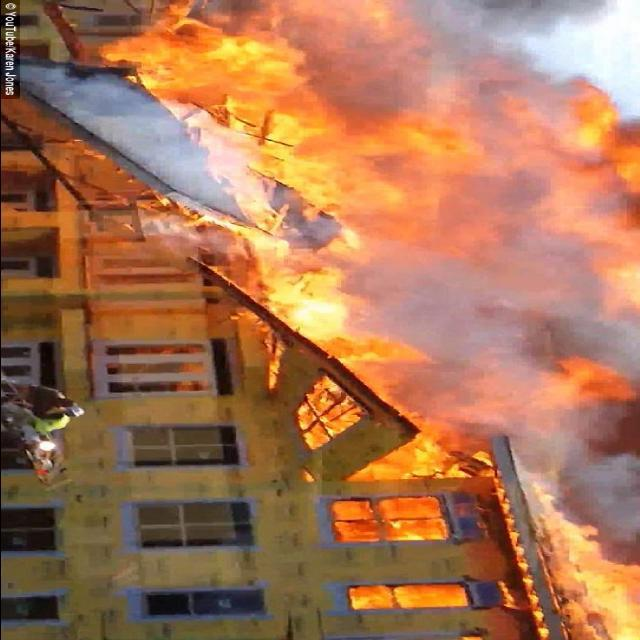Fire: (263, 1, 639, 636), (34, 1, 262, 275)
